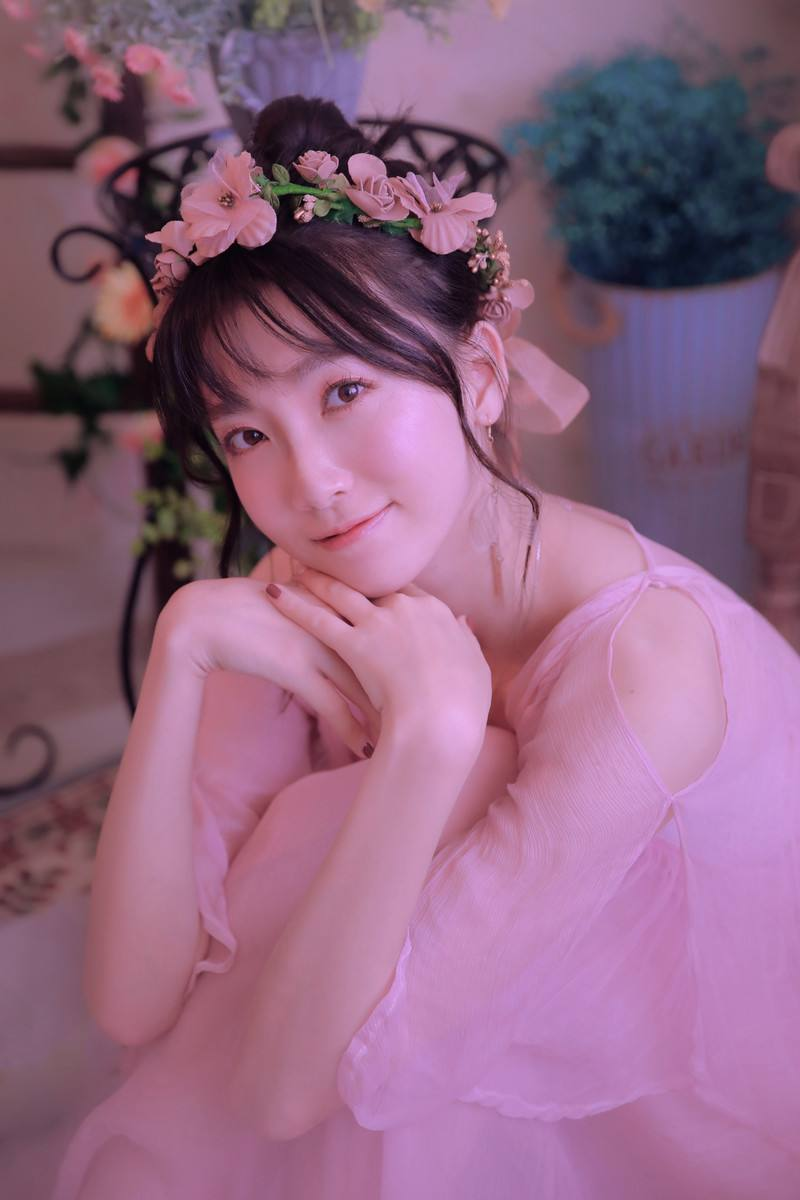person: (66, 127, 760, 899)
